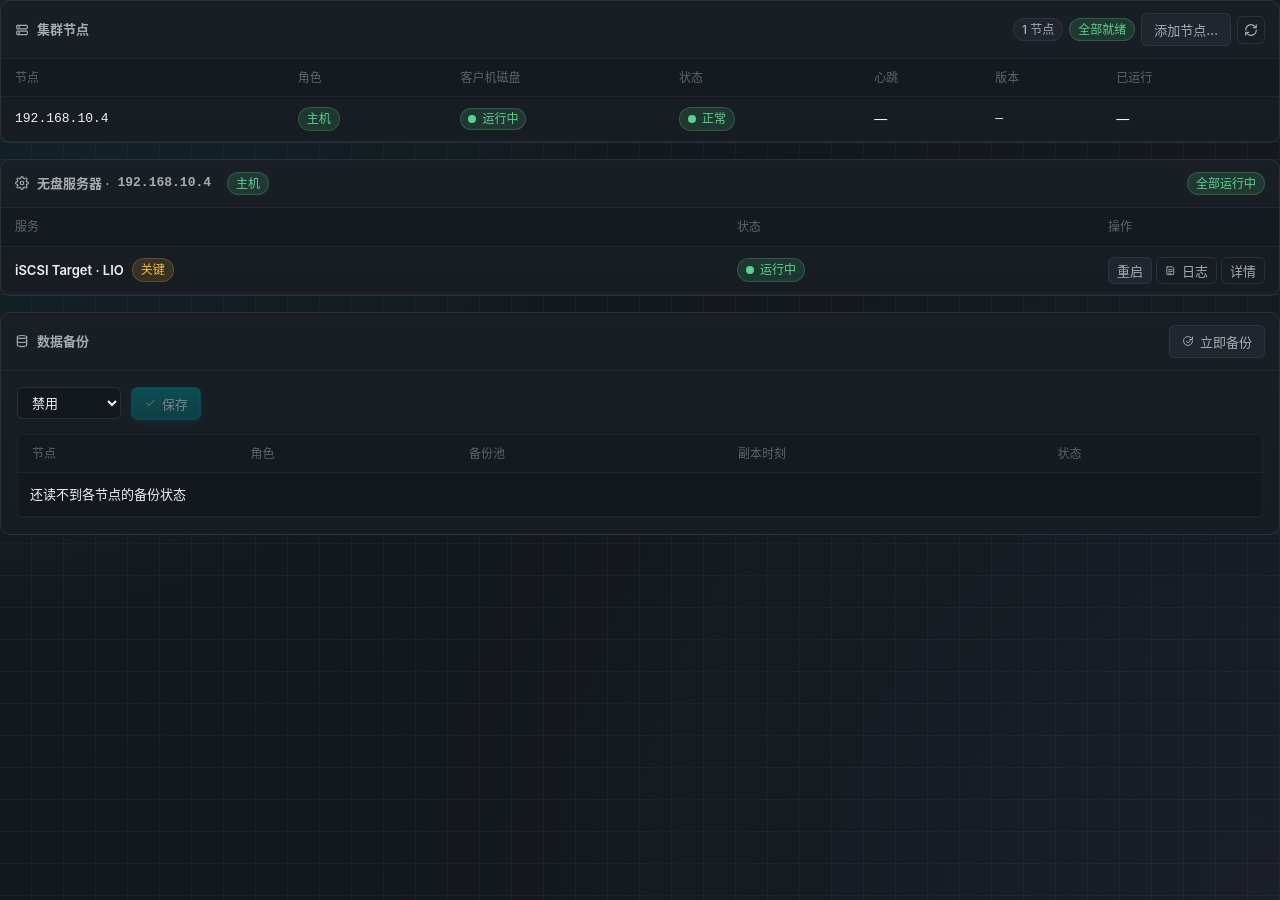
Test: 服务状态的判定 › oneshot 单元说「运行中」，不造一个「就绪」让人琢磨差别
Expected: the text "运行中" is shown, [737, 258, 805, 282]
Expected: the text "已停止" is not shown
Click the button with aria-label "展开详情" at (1243, 270), box [1221, 257, 1265, 284]
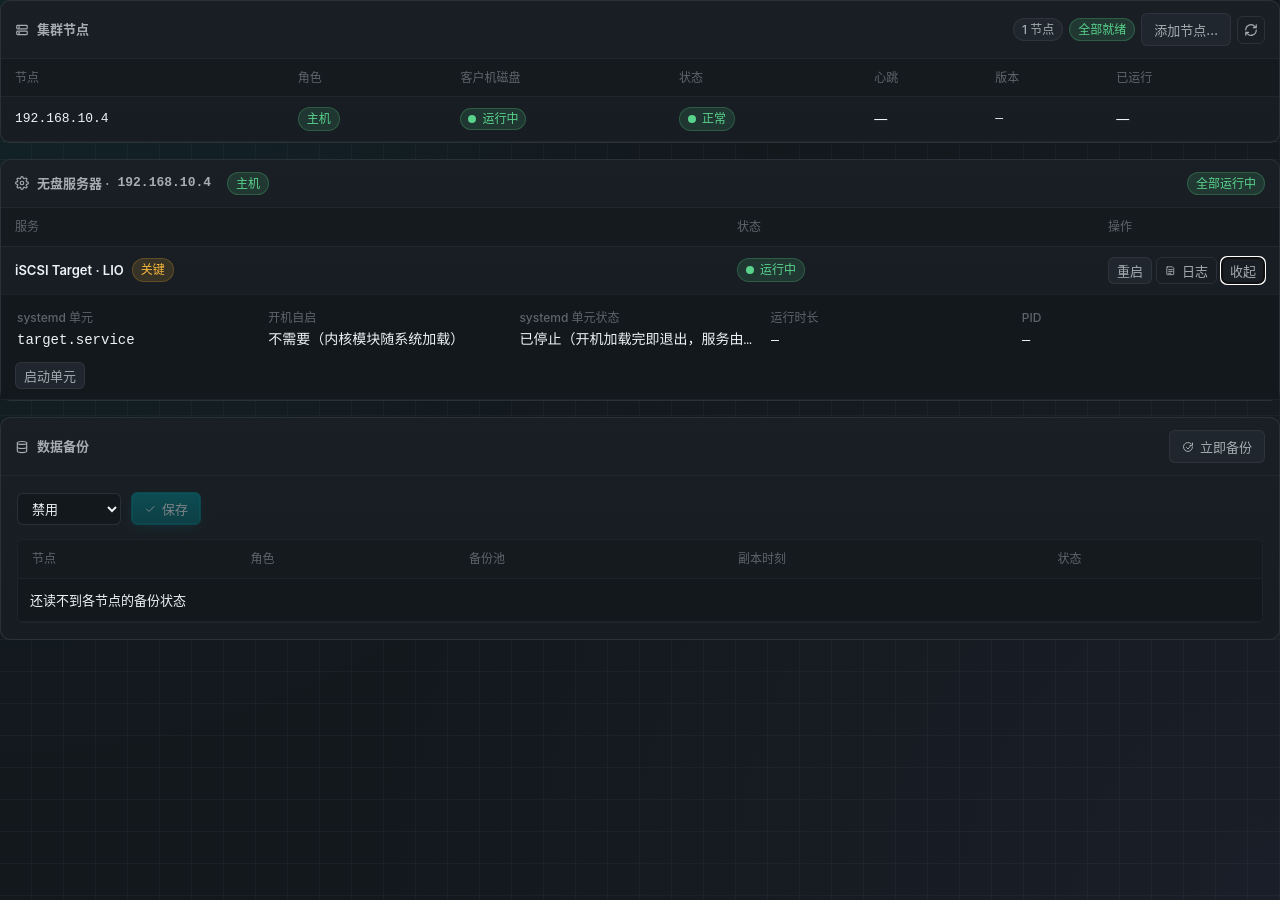
Expected: the text "target.service" is shown, [17, 332, 135, 348]
